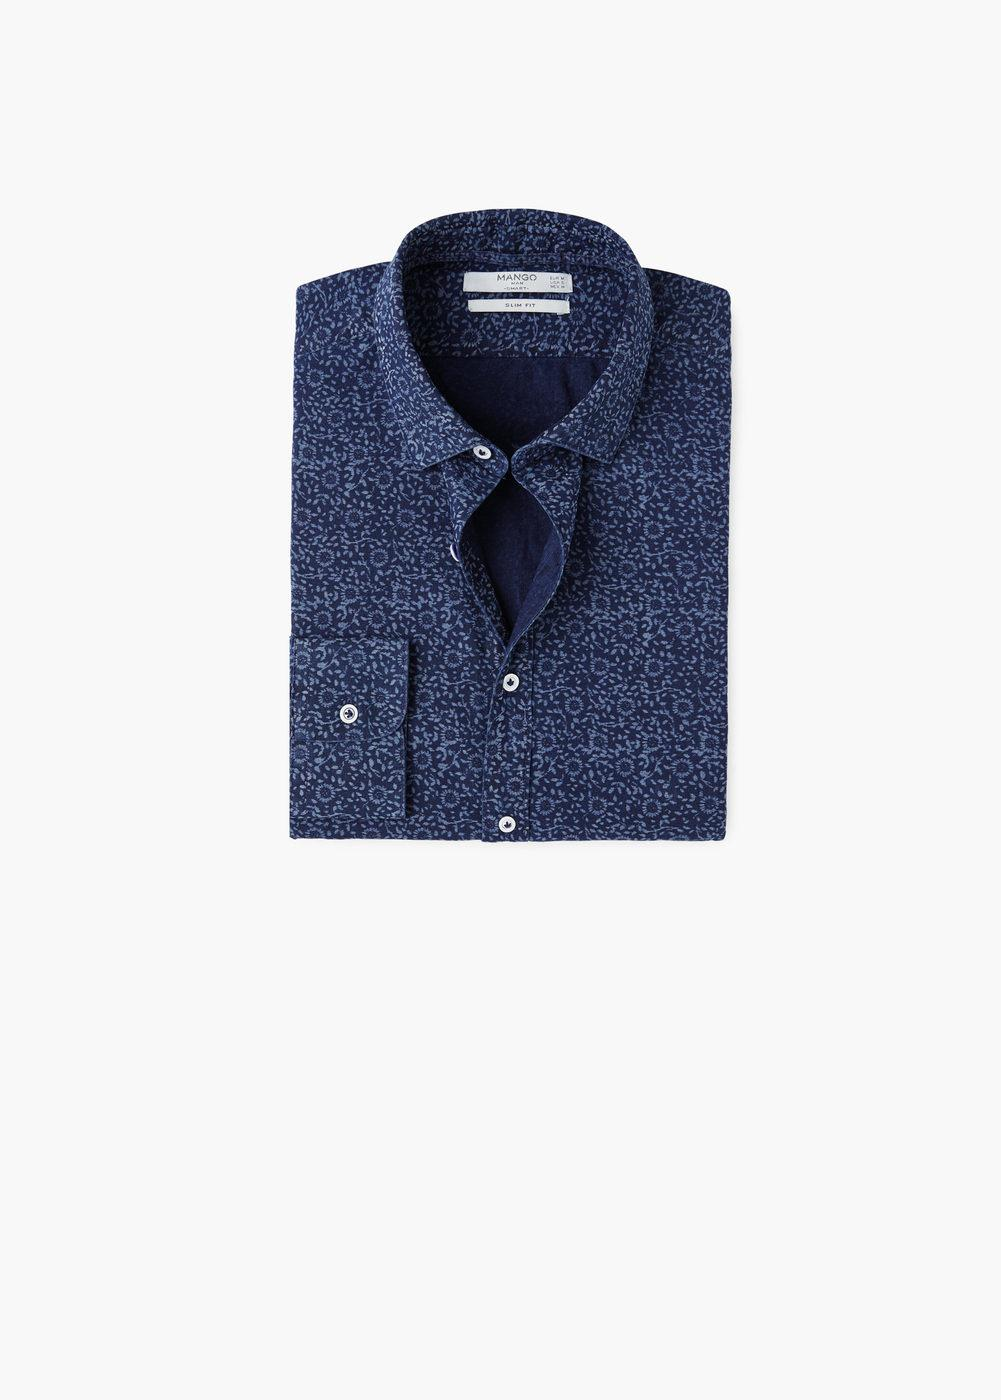teeshirt: (255, 204, 740, 865)
